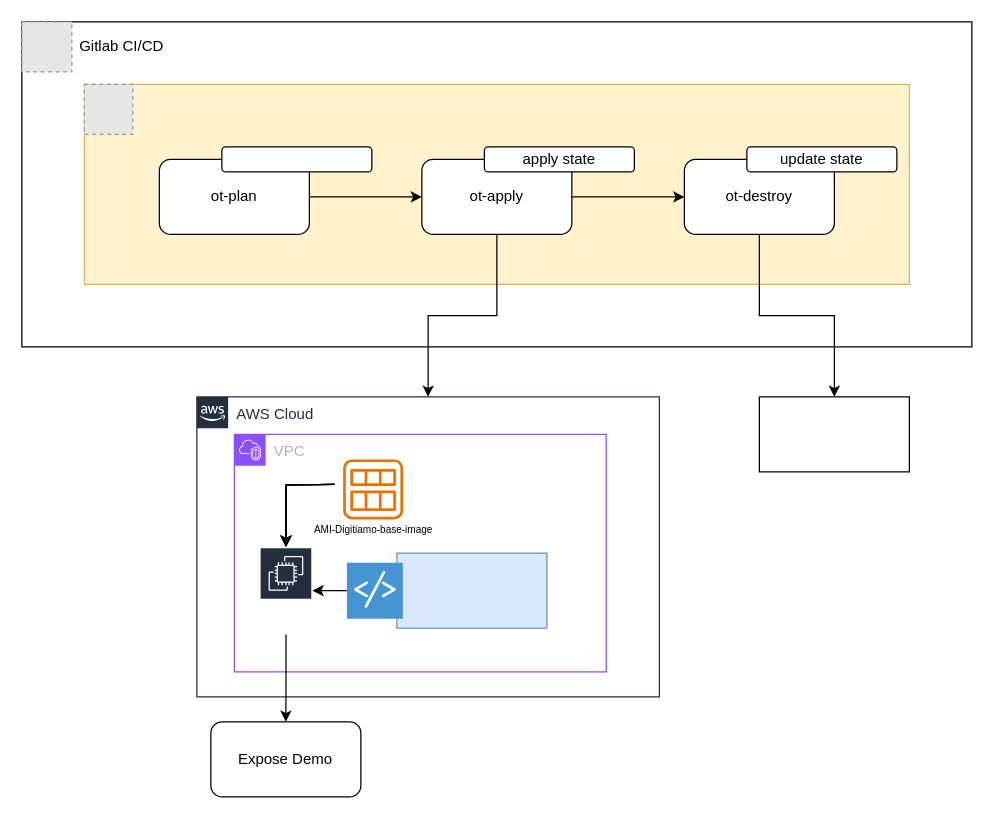
Image size: 994x819. Some labels were removed from this diagram. Grey dashed boxes stand in for pictures. Here are the shapes that lost their labels. From the top down, the centre of each, then its label:
point 296,159: prepare state
point 833,434: destroy resource used
point 285,590: Amazon EC2
point 471,590: start-up script docker compose up
